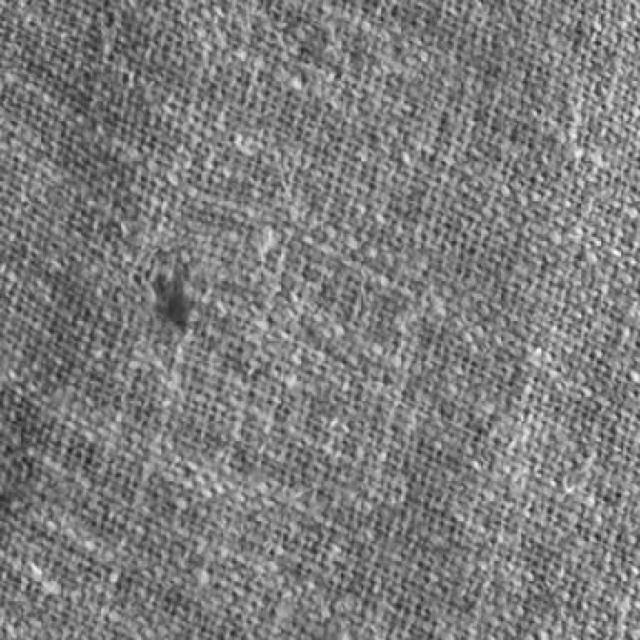other: (50, 168, 284, 414)
